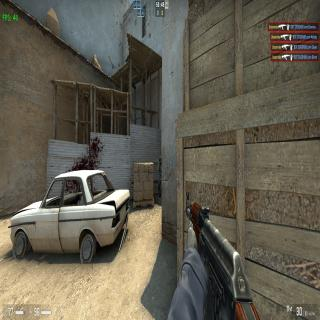CT-Body: (156, 156, 162, 197)
CT-Head: (158, 156, 162, 165)
